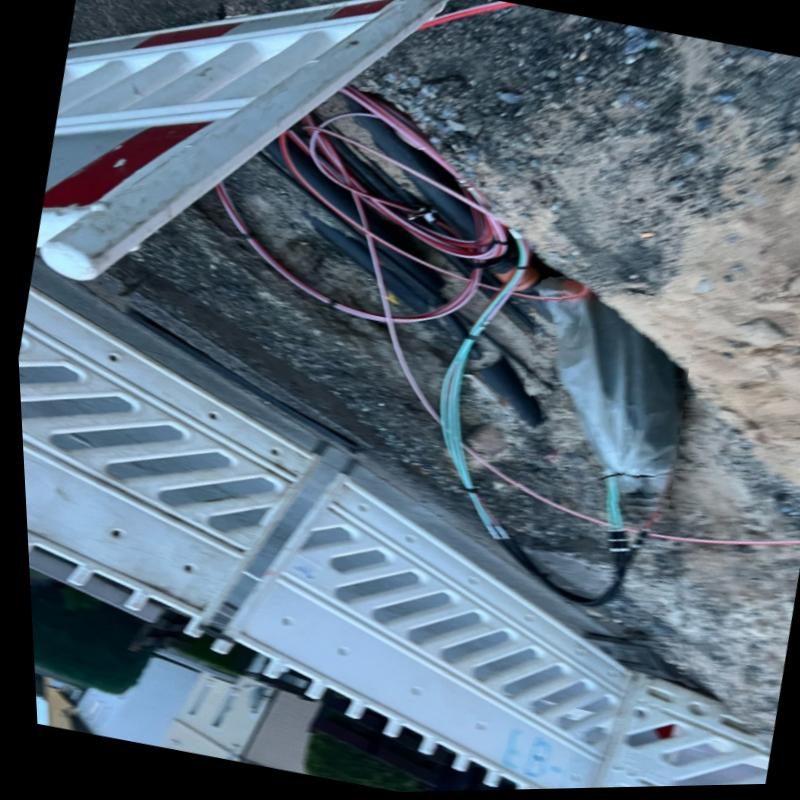NT-Muffen: (536, 280, 679, 511)
